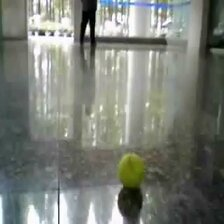tennis: (117, 153, 145, 186)
